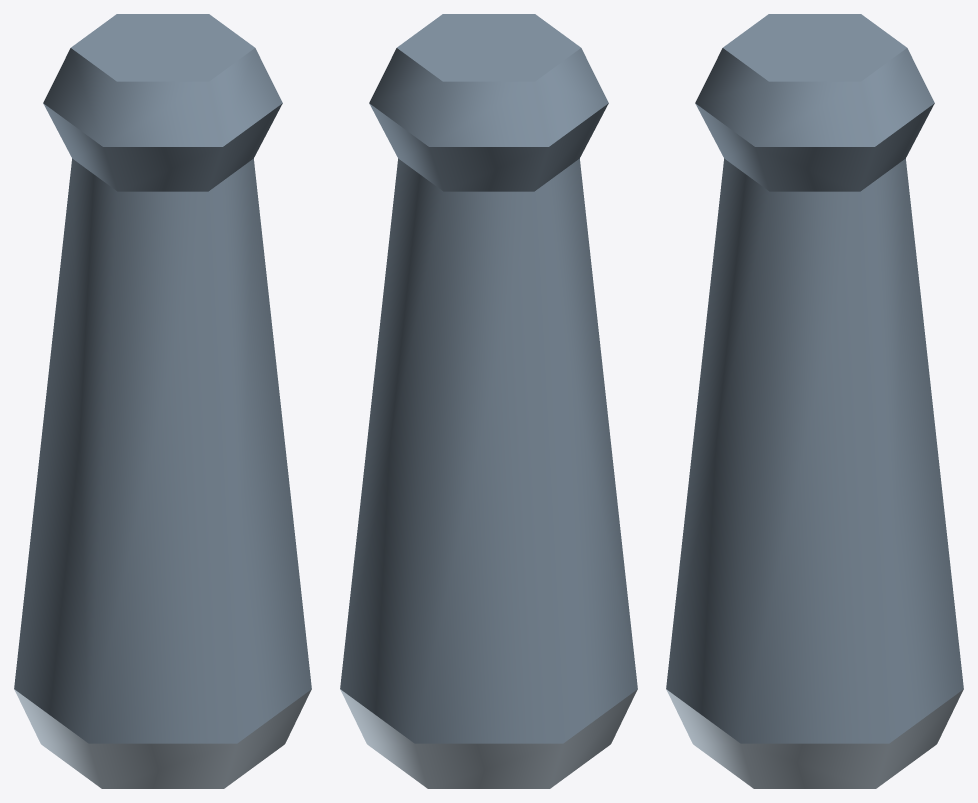
The model's file is mortarPestle.obj.
3 renders of one model, left to right at view 1: azimuth 30°, elevation 25°; view 2: azimuth 150°, elevation 25°; view 3: azimuth 270°, elevation 25°, orthographic.
Visible parts, largest first — view 1: mortarPestle; view 2: mortarPestle; view 3: mortarPestle.
Boxes of the visible parts, x1,y1,x2,y2 form: mortarPestle: (14, 14, 311, 788); mortarPestle: (340, 14, 637, 788); mortarPestle: (666, 14, 963, 788).
Size of the model in its own units: 0.1142 by 0.3402 by 0.1318.
